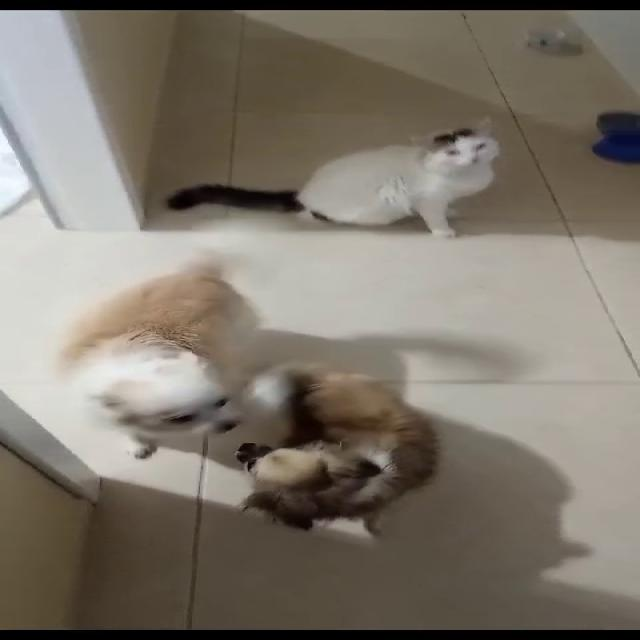Pedrita: (173, 350, 459, 560)
Simba: (266, 100, 557, 260)
Theo: (59, 258, 251, 448)
